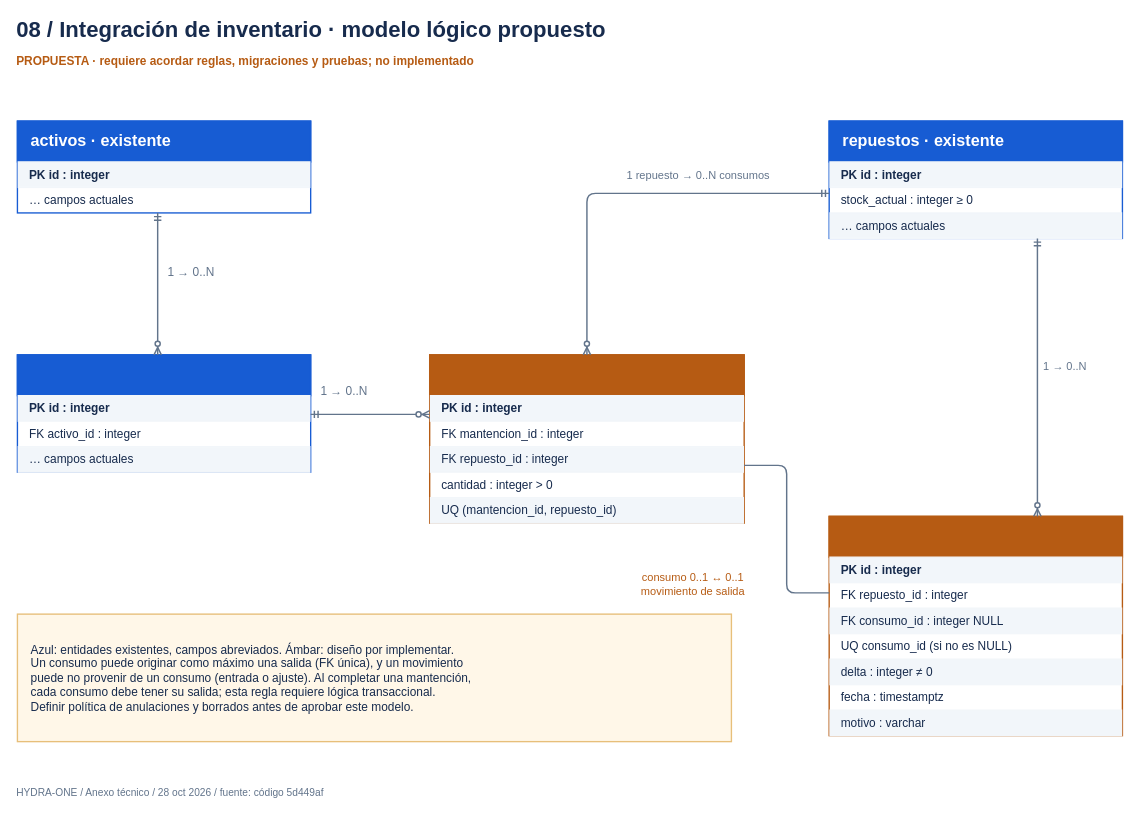
Some shapes in this 1139 by 817 pixel diagram are drawn without their labels. Here are the shapes that lost their labels. From the top down, the centre of each, then its label:
pixel 163 375: mantenciones · existente
pixel 586 375: consumos · nueva
pixel 975 536: movimientos · nueva
